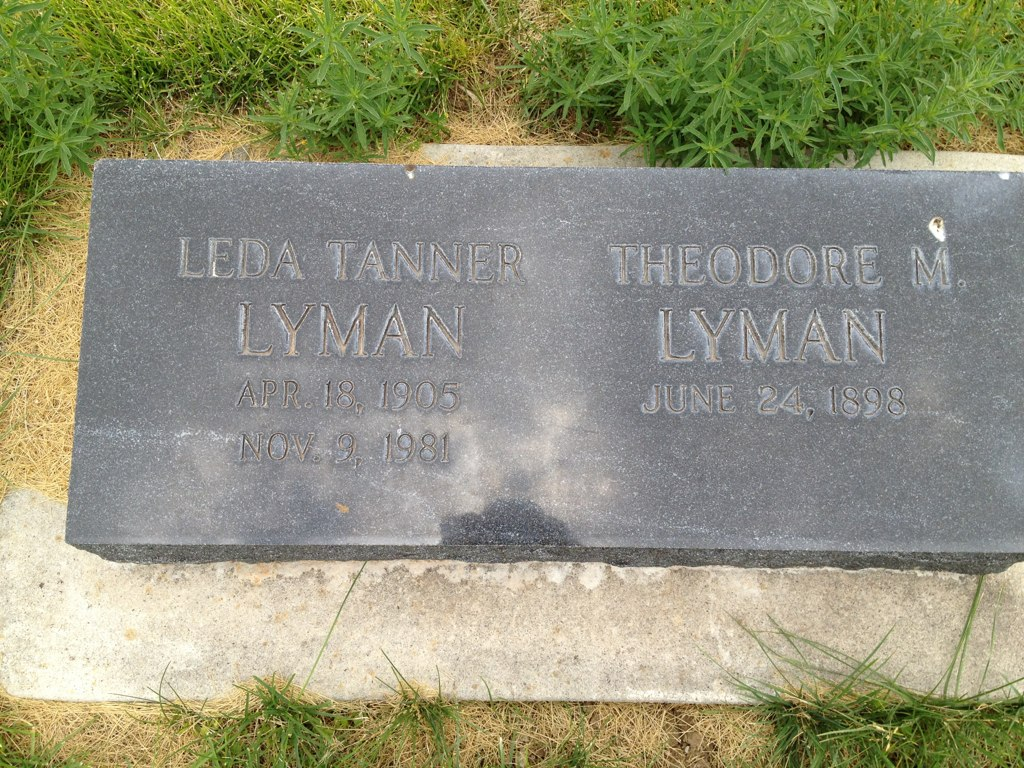flat: (97, 145, 1024, 571)
